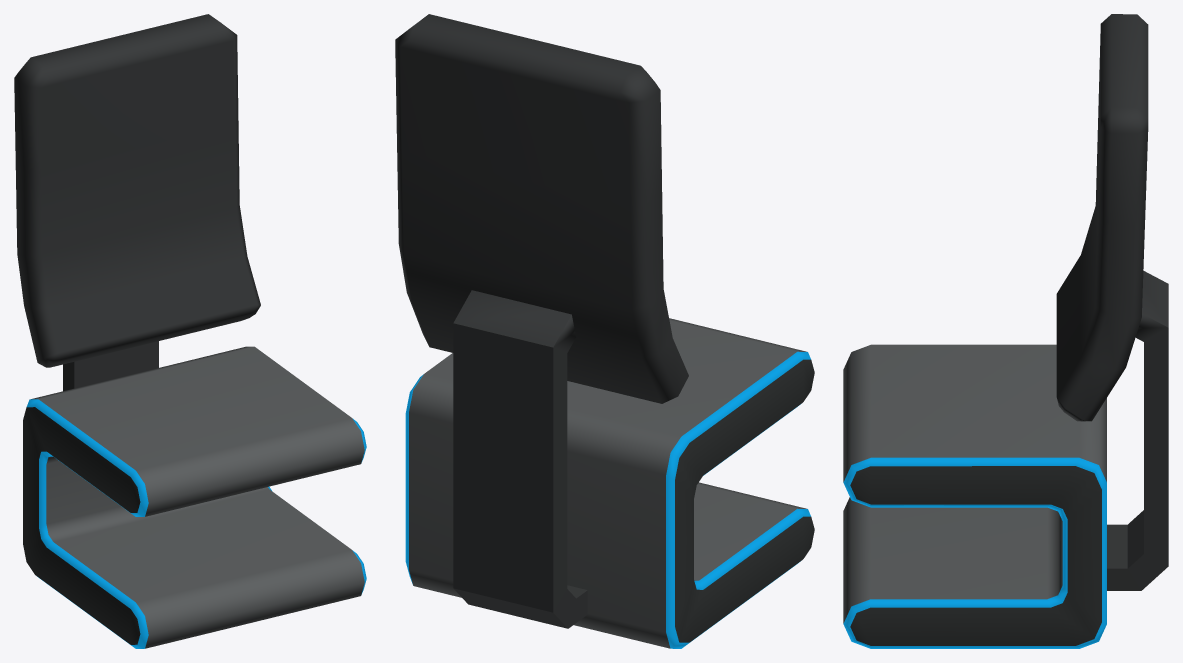
Rendered from Chair_005.glb.
The picture shows the model from 3 angles, left to right: view 1: azimuth 30°, elevation 25°; view 2: azimuth 150°, elevation 25°; view 3: azimuth 270°, elevation 25°; orthographic projection. The views are drawn at different scales.
Visible parts, largest first — view 1: Chair_005; view 2: Chair_005; view 3: Chair_005.
Boxes of the visible parts, x1,y1,x2,y2 form: Chair_005: (14, 14, 366, 648); Chair_005: (395, 14, 814, 648); Chair_005: (843, 14, 1168, 648).
Bounding box in the file's own units: 0.5888 × 1.23 × 0.6835.
Materials: 2 (2 with a texture image).
